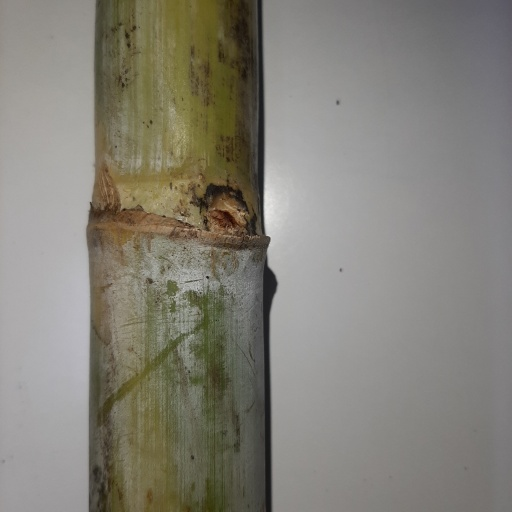Damage_Bud: (206, 190, 249, 234)
